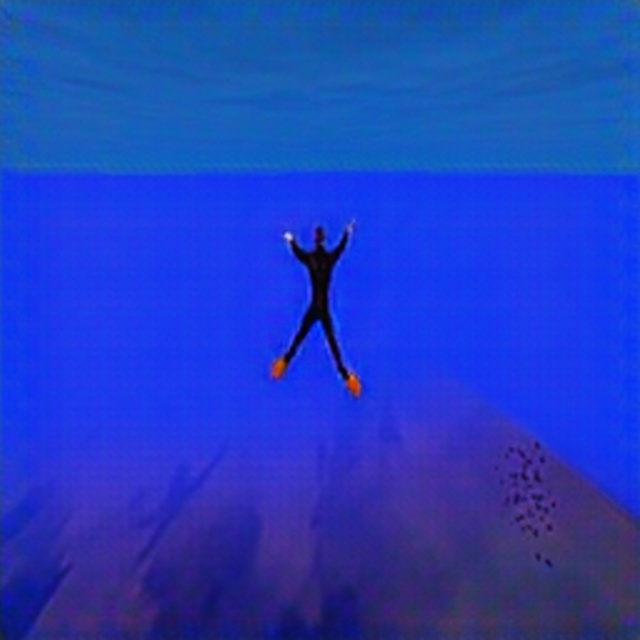diver: (269, 213, 363, 399)
